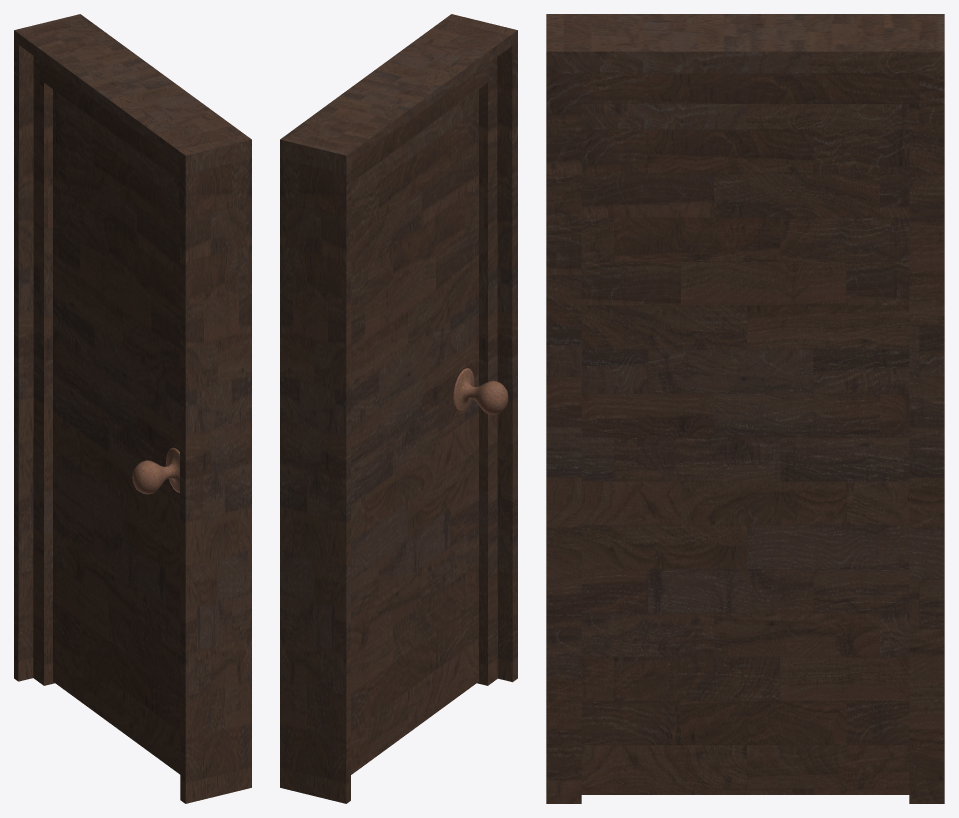
File: door_GWJ99.glb
3 renders of one model, left to right at view 1: azimuth 30°, elevation 25°; view 2: azimuth 150°, elevation 25°; view 3: azimuth 270°, elevation 25°, orthographic. The views are drawn at different scales.
Visible parts, largest first — view 1: doorFrame, door, doorKnob; view 2: doorFrame, door, doorKnob; view 3: door, doorFrame.
Boxes of the visible parts, <box> form: doorFrame: <box>14,14,251,803</box>; door: <box>53,89,180,774</box>; doorKnob: <box>132,447,179,494</box>; doorFrame: <box>280,14,517,803</box>; door: <box>351,89,478,774</box>; doorKnob: <box>453,368,508,414</box>; door: <box>581,104,909,794</box>; doorFrame: <box>546,14,944,803</box>.
Size of the model in its own units: 0.2761 by 2 by 0.959.
Materials: 2 (2 with a texture image).
